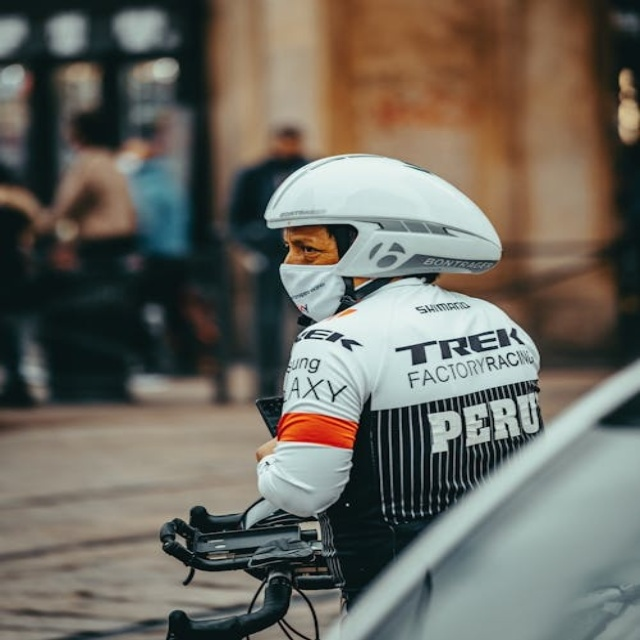Mascara: (278, 258, 350, 322)
Sin_gafas: (275, 231, 334, 260)
